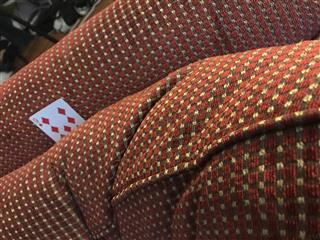NineOfDiamonds: (27, 97, 85, 144)
